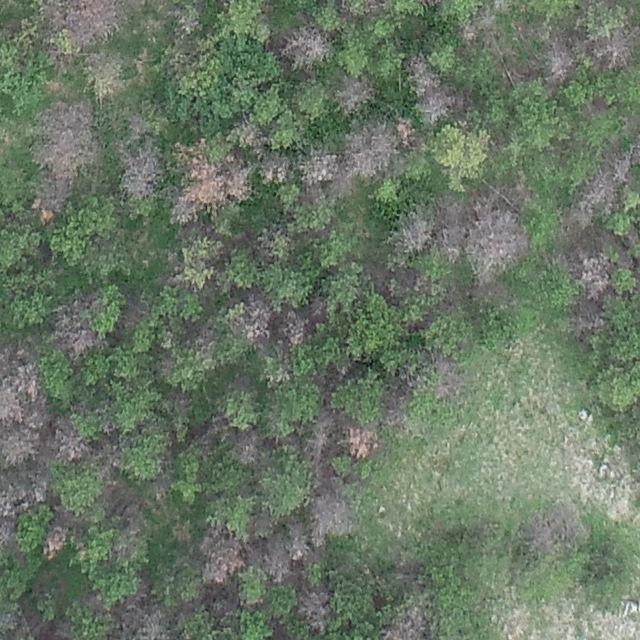unhealthy: (31, 96, 102, 178), (468, 199, 530, 284), (171, 137, 224, 226), (575, 142, 640, 212), (36, 0, 120, 46), (342, 121, 402, 180), (408, 56, 459, 122), (49, 289, 98, 357), (114, 142, 161, 199), (526, 504, 581, 552), (280, 26, 337, 72), (304, 494, 352, 545), (181, 237, 225, 289), (591, 26, 640, 72), (201, 535, 245, 586), (84, 51, 125, 98), (575, 248, 612, 300), (32, 178, 73, 224), (438, 198, 467, 263), (539, 36, 576, 85), (378, 605, 426, 640), (297, 586, 332, 633), (261, 527, 291, 581), (0, 428, 42, 466), (331, 78, 374, 114), (224, 151, 253, 204), (299, 152, 340, 186), (433, 359, 464, 399), (402, 215, 435, 252), (243, 300, 274, 339), (462, 10, 498, 42), (55, 430, 93, 460), (286, 521, 313, 562), (0, 376, 23, 423), (308, 418, 334, 459), (261, 152, 291, 187), (235, 427, 262, 465), (343, 426, 376, 457), (0, 484, 29, 519), (284, 310, 309, 347), (16, 361, 39, 401), (138, 610, 168, 640), (42, 526, 67, 560), (189, 327, 218, 355), (572, 311, 606, 333), (235, 120, 262, 147), (176, 7, 198, 35), (397, 116, 416, 147), (98, 444, 123, 467), (126, 113, 148, 139), (28, 479, 49, 506), (47, 48, 70, 72), (210, 414, 230, 441), (158, 355, 175, 375)
